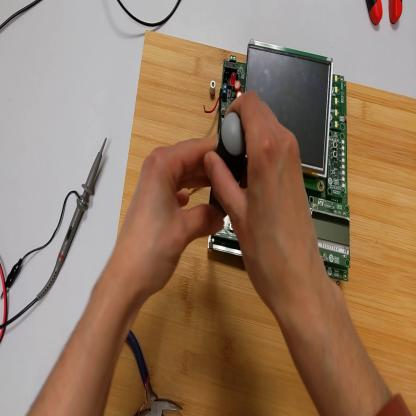hand: (205, 88, 324, 307), (118, 135, 225, 301)
low voltage board: (205, 35, 352, 283)
pliers: (126, 330, 185, 415), (366, 1, 405, 28)
screwdriver-: (209, 113, 248, 220)
working area: (105, 26, 416, 415)
